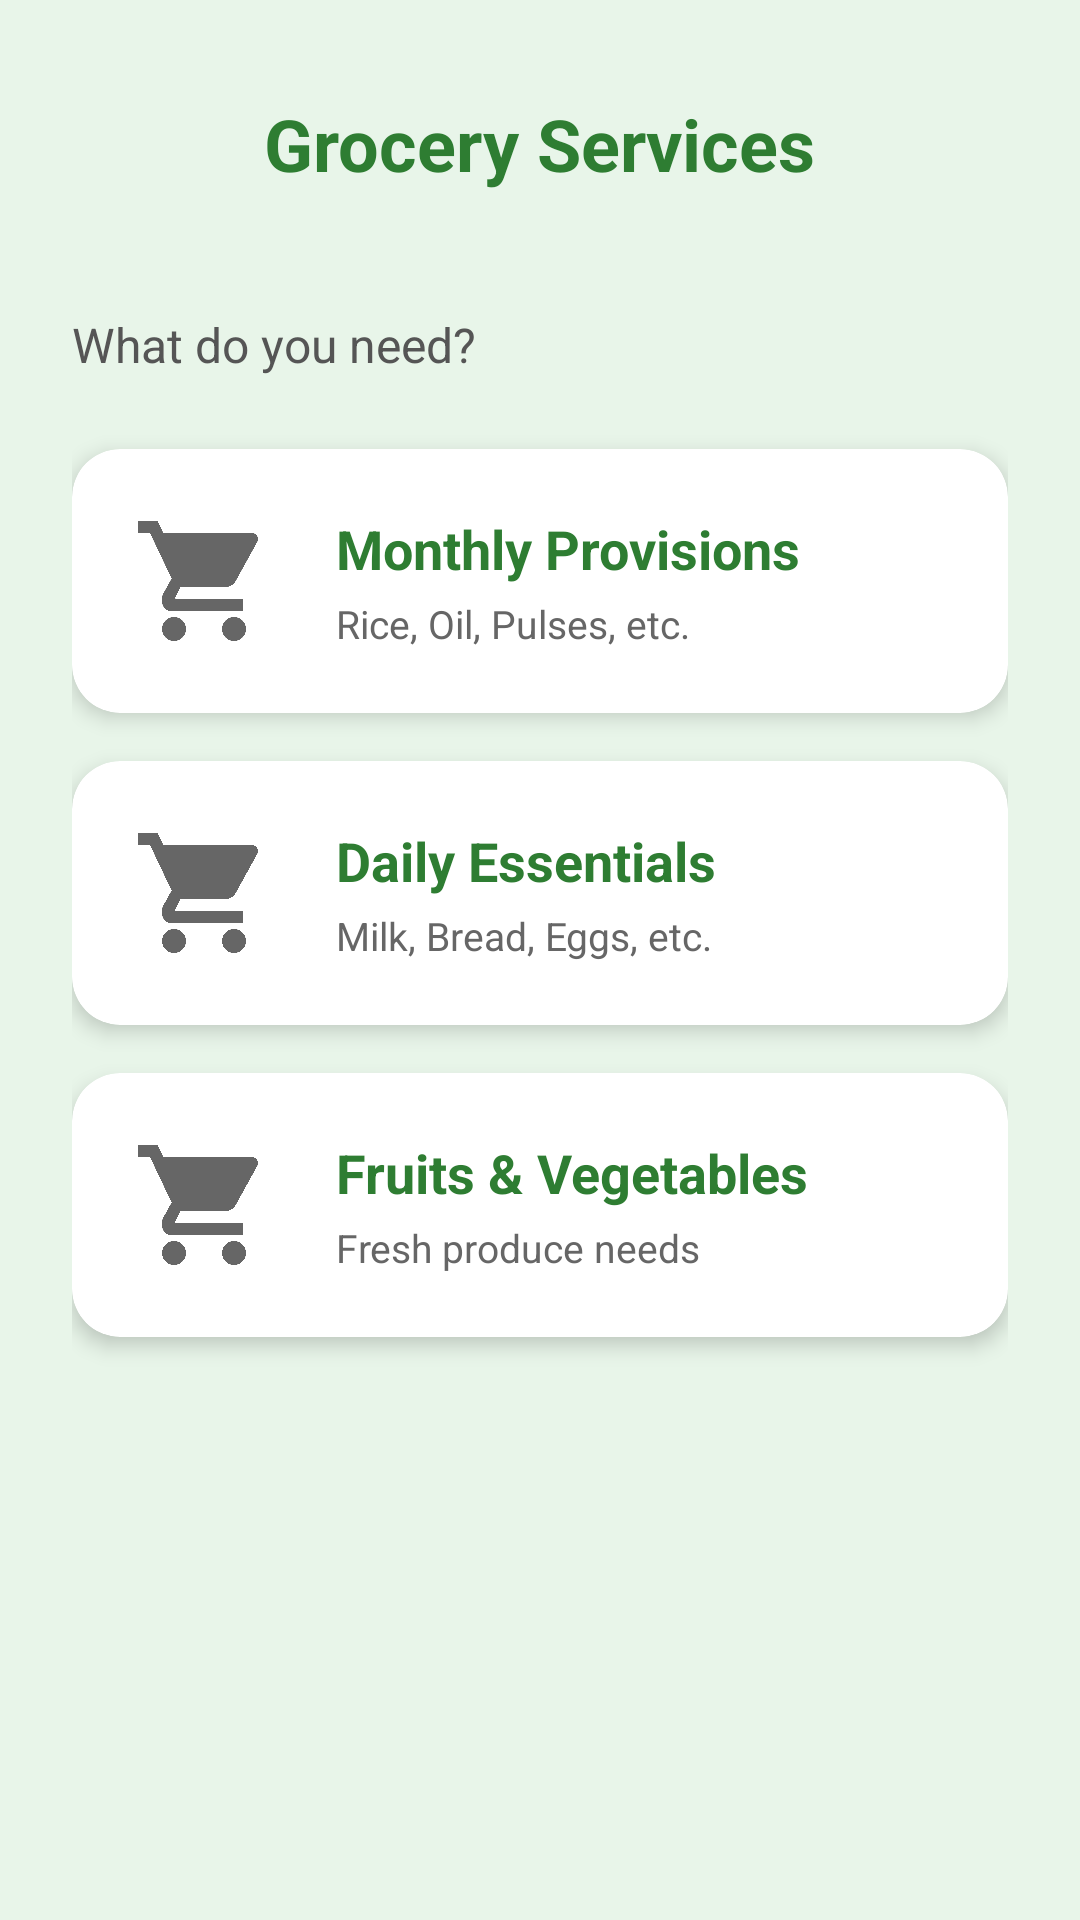

Named icons in this screenshot (1080 × 1920) and their bounding boxes, (x1, y1, x2, y2):
grocery: (138, 521, 258, 641), (138, 833, 258, 953), (138, 1145, 258, 1265)
